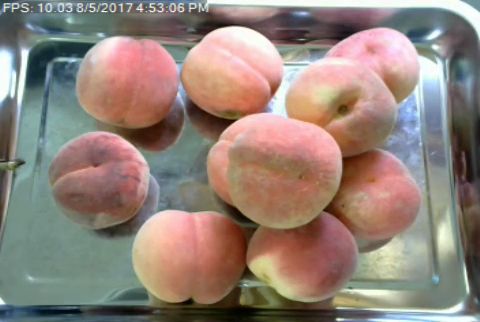Peach: (227, 117, 345, 225), (285, 57, 396, 157), (132, 210, 250, 303), (244, 215, 358, 302), (49, 131, 151, 227), (181, 25, 284, 120), (75, 36, 180, 128), (327, 146, 424, 244), (321, 28, 421, 97)
